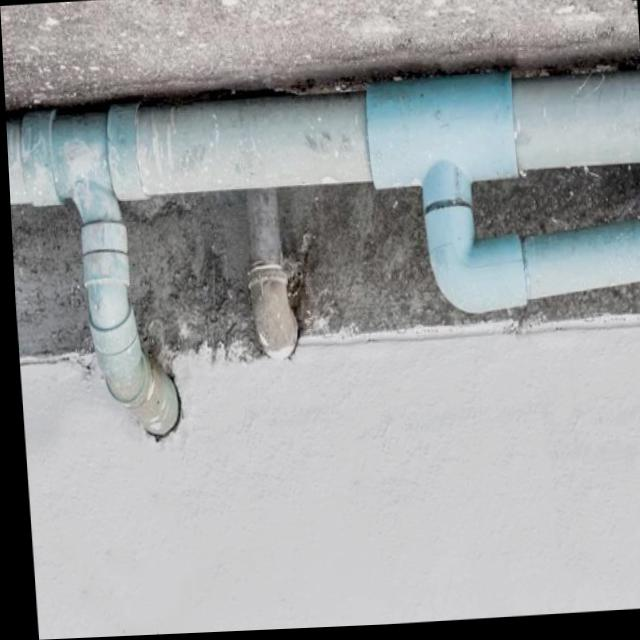leak: (136, 93, 374, 196), (138, 368, 179, 435), (290, 248, 315, 330)
